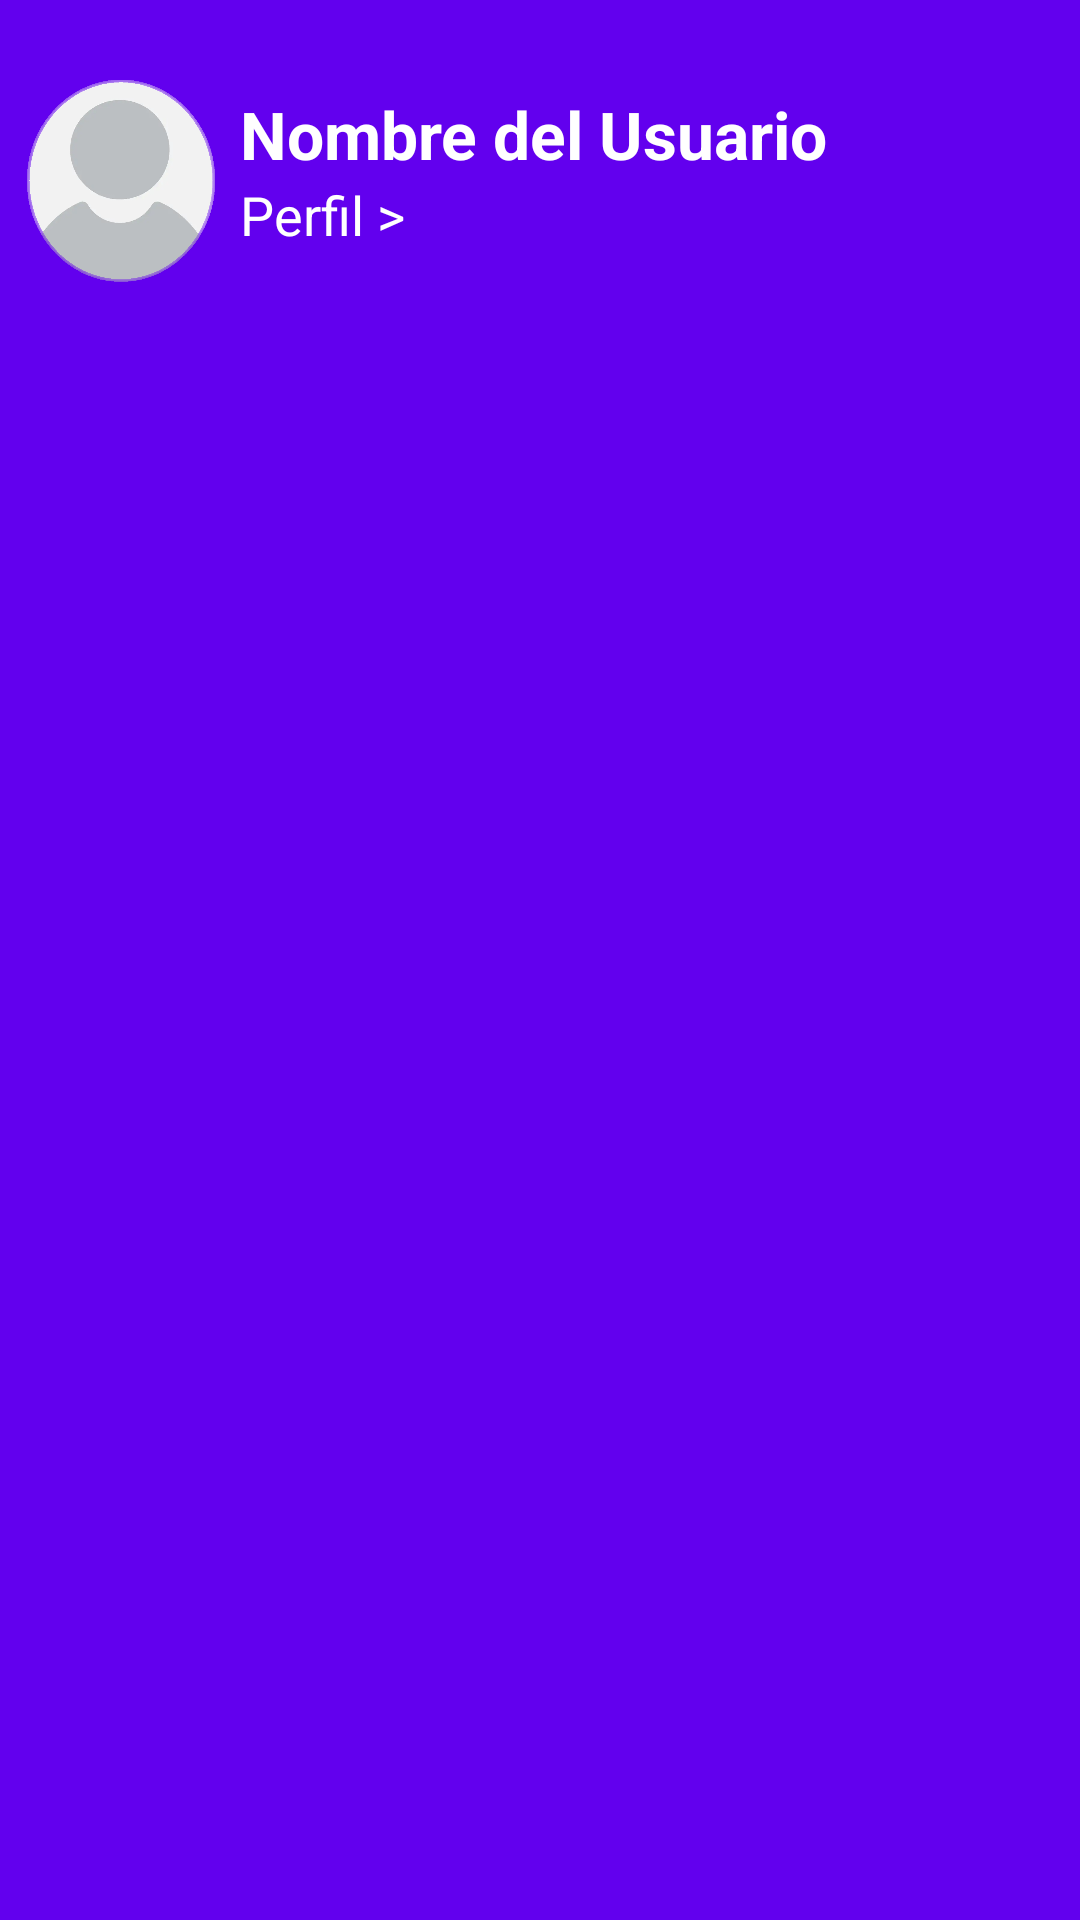

Named icons in this screenshot (1080 × 1920) and their bounding boxes, (x1, y1, x2, y2):
user: (27, 80, 215, 282)
